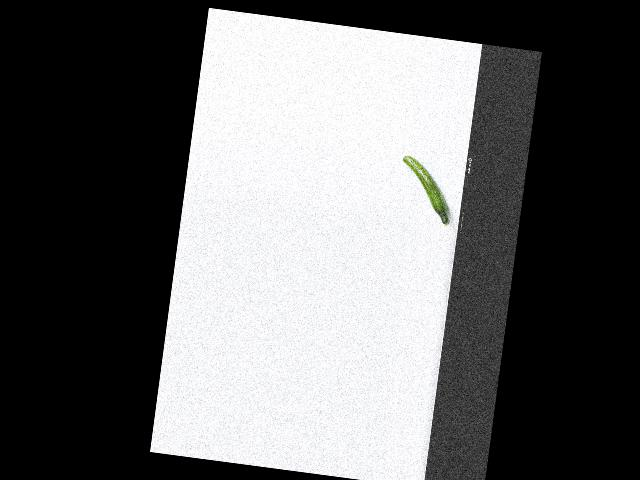cucumber: (395, 155, 457, 226)
